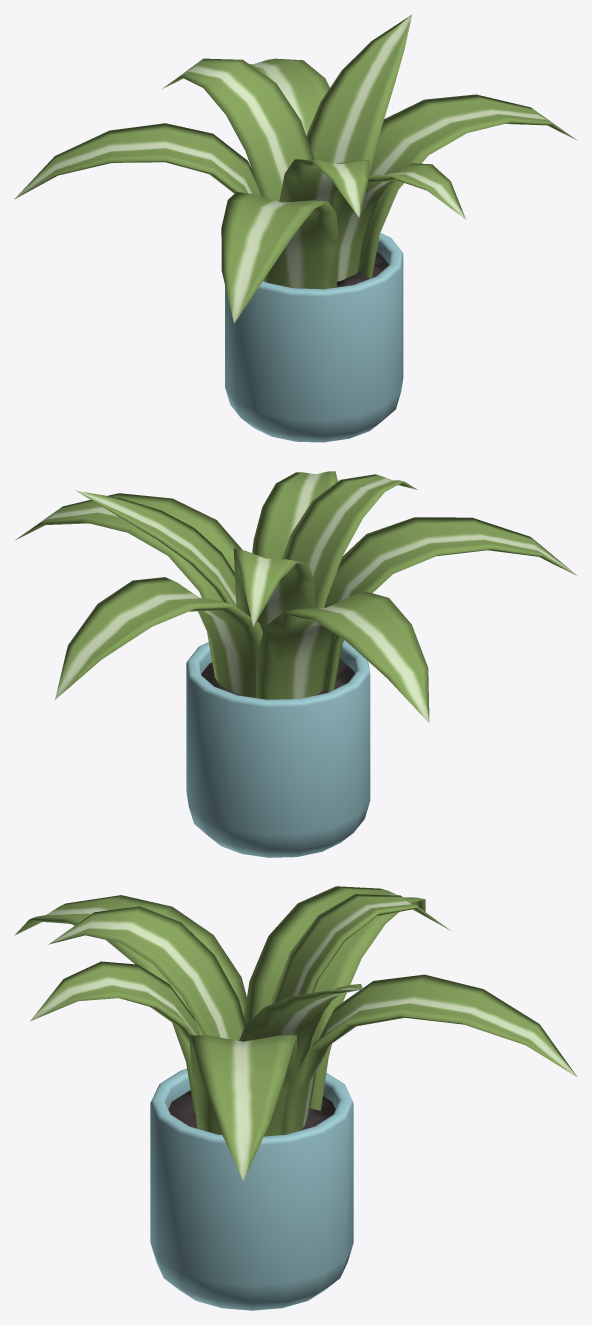
The model's file is plant_3.fbx.
3 views of the same model, one above another, from view 1: azimuth 30°, elevation 25°; view 2: azimuth 150°, elevation 25°; view 3: azimuth 270°, elevation 25° (orthographic). The views are drawn at different scales.
Parts seen in each view (by area): view 1: plant_3, plant_pot_3; view 2: plant_3, plant_pot_3; view 3: plant_3, plant_pot_3.
Boxes of the visible parts, x1,y1,x2,y2 form: plant_3: [14, 14, 577, 323]; plant_pot_3: [225, 233, 403, 442]; plant_3: [14, 471, 576, 722]; plant_pot_3: [186, 640, 370, 857]; plant_3: [14, 886, 577, 1180]; plant_pot_3: [150, 1069, 353, 1310].
Size of the model in its own units: 0.5414 by 0.3548 by 0.4842.
